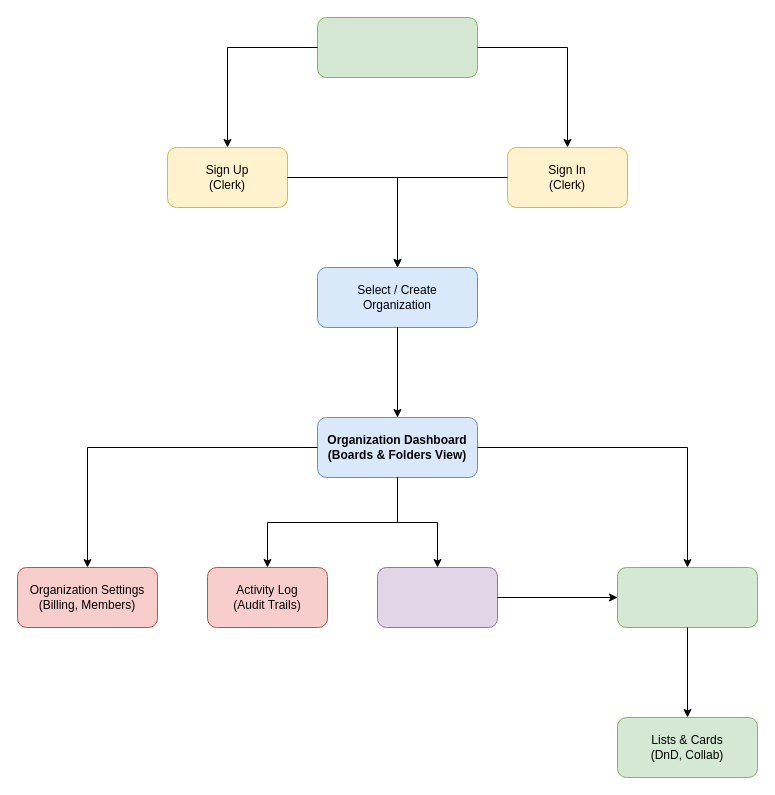
Image size: 775x795. Some labels were removed from this diagram. The shapes that lost their labels are listed below. From the top down, each one's centre as x and y in pixels, then its label:
At (397,47): "Marketing Page (Landing)".
At (437,597): "Folders (Year/Month/Day)".
At (687,597): "Board View [boardId]".
